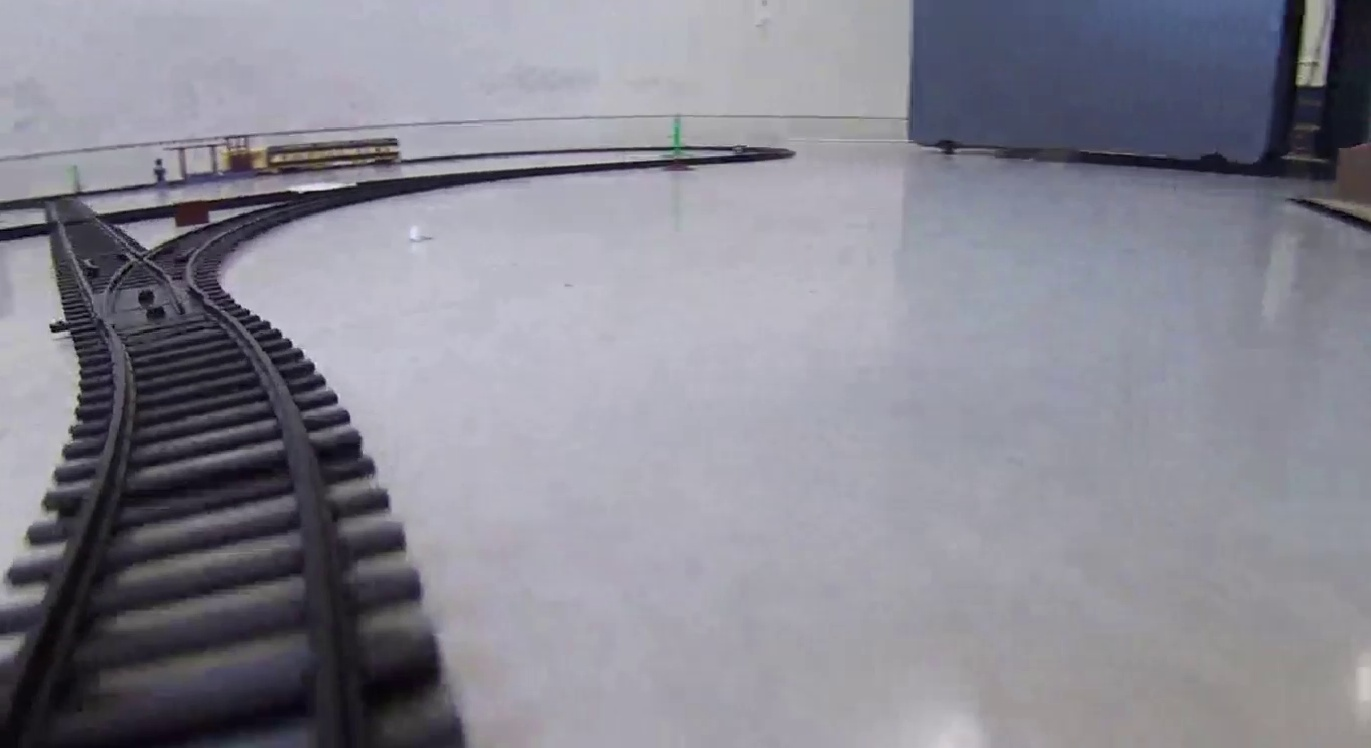box: (173, 201, 204, 222)
